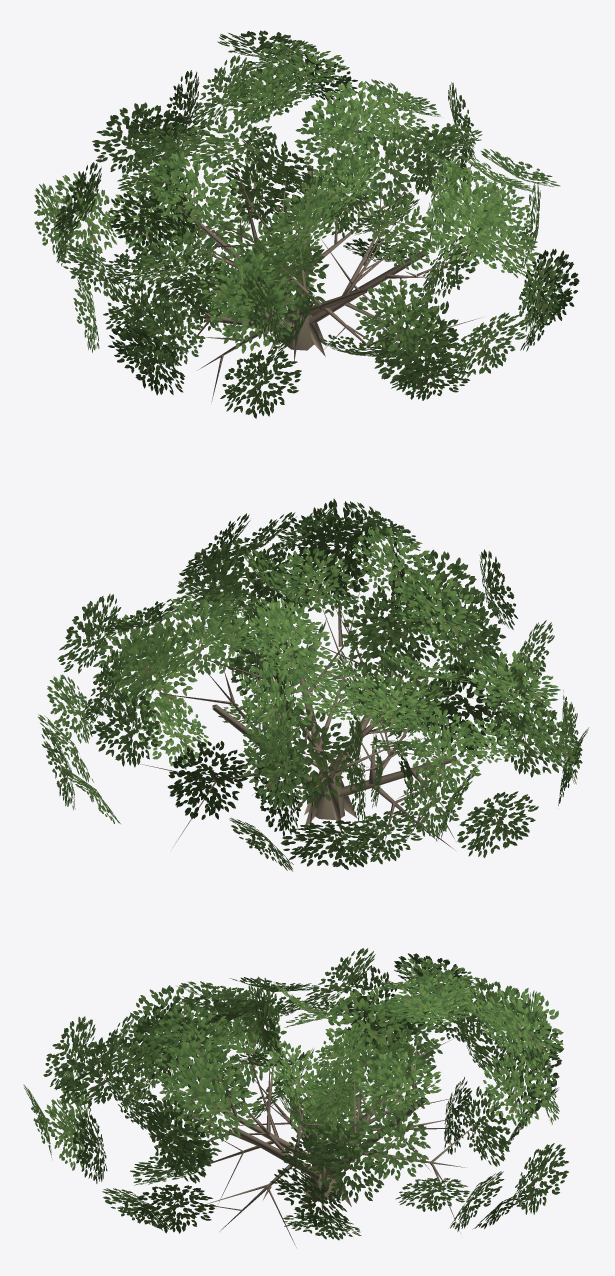
File: eco_shrub_round_a_LOD1.glb
The picture shows the model from 3 angles, top to bottom: view 1: azimuth 30°, elevation 25°; view 2: azimuth 150°, elevation 25°; view 3: azimuth 270°, elevation 25°; orthographic projection. The views are drawn at different scales.
Parts seen in each view (by area): view 1: eco_shrub_round_a_LOD1; view 2: eco_shrub_round_a_LOD1; view 3: eco_shrub_round_a_LOD1.
Part boxes in pixels (left/top/right/bottom): eco_shrub_round_a_LOD1: left=34, top=30, right=579, bottom=418; eco_shrub_round_a_LOD1: left=38, top=498, right=588, bottom=871; eco_shrub_round_a_LOD1: left=23, top=948, right=568, bottom=1247.
Size of the model in its own units: 2.28 by 1.36 by 2.56.
2 materials, 1 textured.
